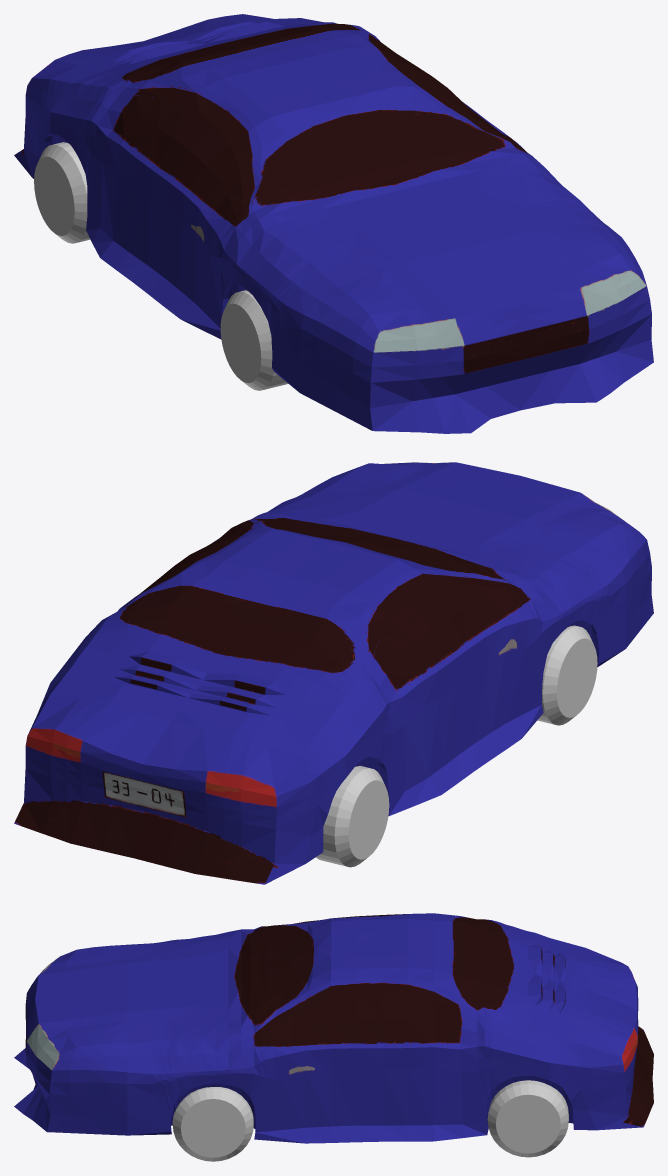
Rendered from CarFerari.obj.
3 renders of one model, top to bottom at view 1: azimuth 30°, elevation 25°; view 2: azimuth 150°, elevation 25°; view 3: azimuth 270°, elevation 25°, orthographic. The views are drawn at different scales.
Visible parts, largest first — view 1: Cube, 円柱.001_円柱.003; view 2: Cube, 円柱.001_円柱.003; view 3: Cube, 円柱.001_円柱.003.
Part boxes in pixels (x1=…): Cube: x1=14, y1=14, x2=653, y2=433; 円柱.001_円柱.003: x1=34, y1=142, x2=288, y2=390; Cube: x1=14, y1=462, x2=653, y2=884; 円柱.001_円柱.003: x1=316, y1=625, x2=597, y2=867; Cube: x1=14, y1=913, x2=653, y2=1143; 円柱.001_円柱.003: x1=172, y1=1080, x2=568, y2=1161.
Bounding box in the file's own units: 2.72 × 1.5 × 5.54.
